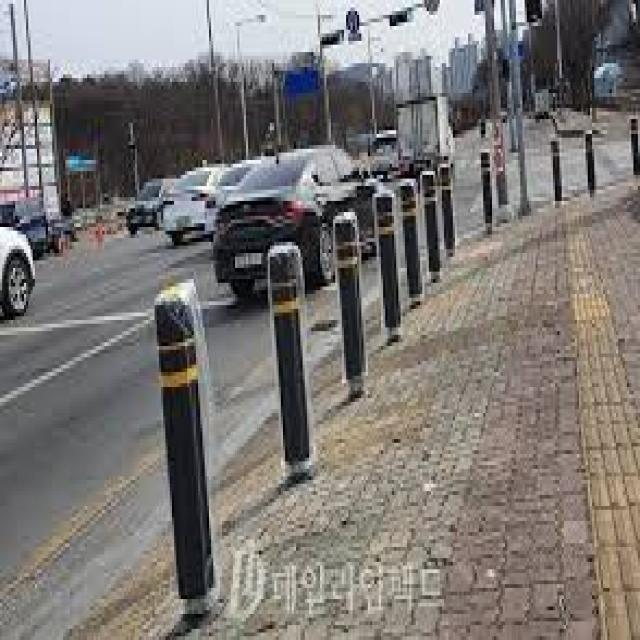bollard: (143, 262, 225, 626), (264, 234, 320, 497), (330, 206, 370, 404), (372, 183, 404, 350), (396, 168, 430, 312), (416, 167, 444, 288), (436, 151, 459, 261), (476, 148, 496, 240), (543, 136, 567, 212), (582, 123, 598, 202), (628, 108, 640, 178)
